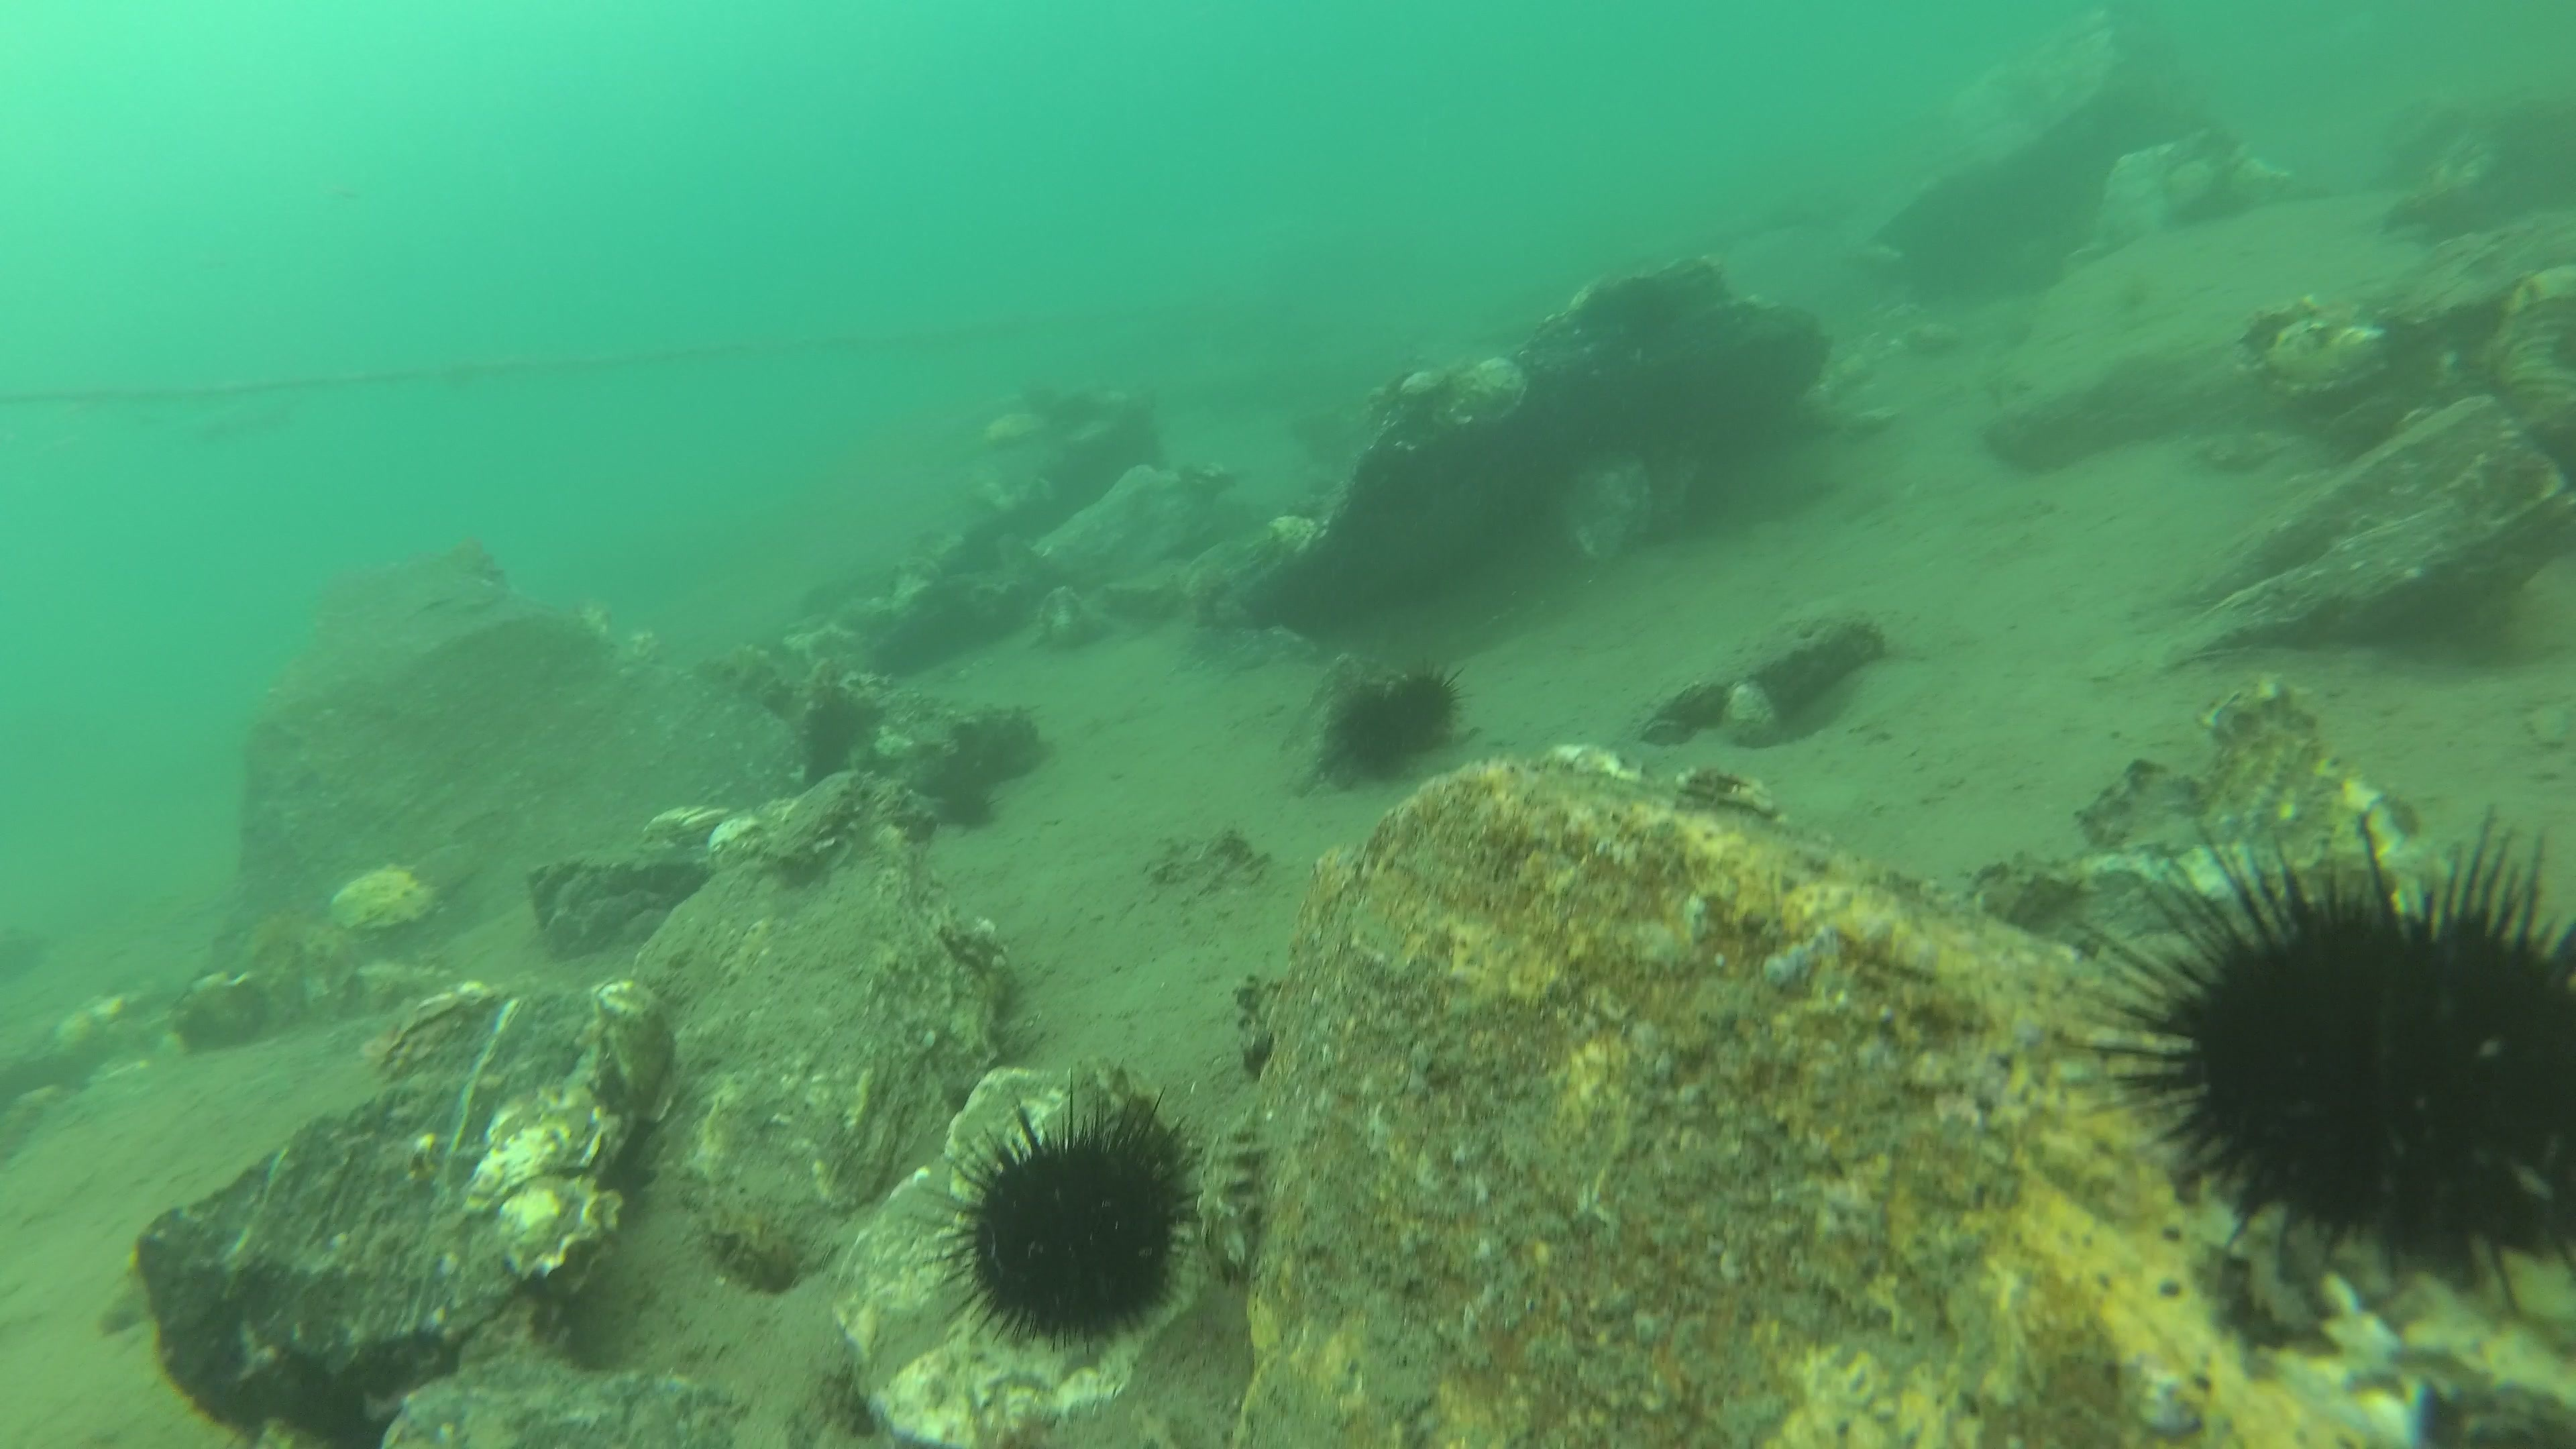echinus: (2052, 805, 2576, 1325), (916, 1074, 1212, 1359), (1391, 658, 1474, 741), (1339, 692, 1401, 775), (1617, 276, 1681, 345), (936, 784, 1007, 830)
